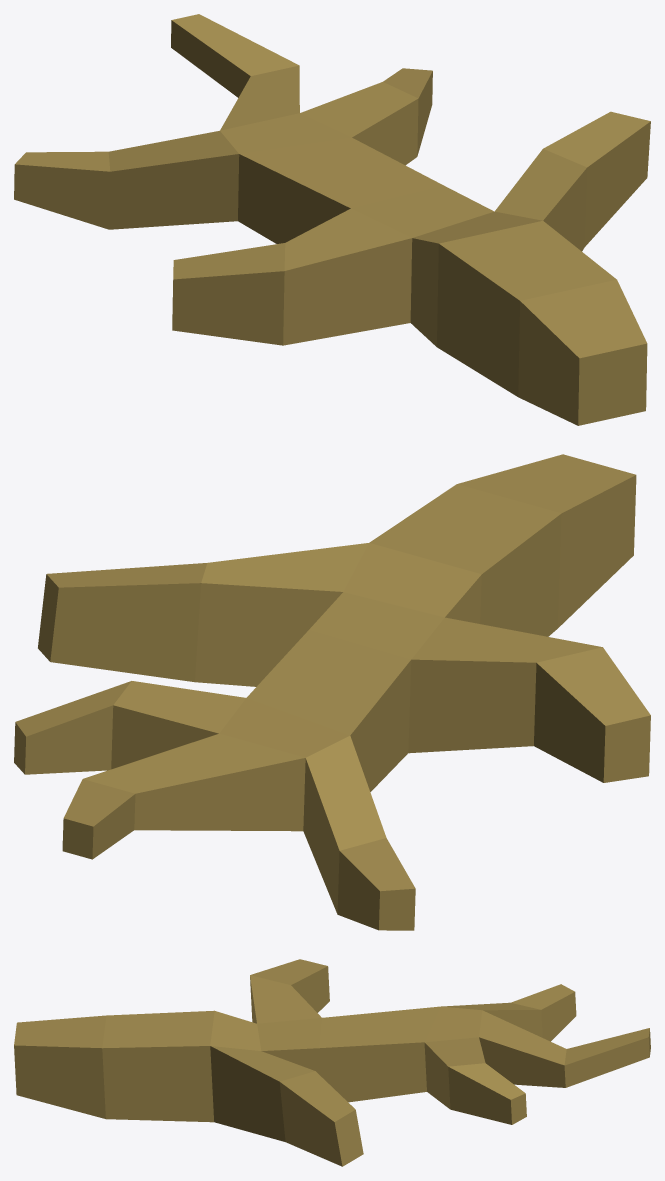
Rendered from plant_root.gltf.
The picture shows the model from 3 angles, top to bottom: view 1: azimuth 30°, elevation 25°; view 2: azimuth 150°, elevation 25°; view 3: azimuth 270°, elevation 25°; orthographic projection. The views are drawn at different scales.
Visible parts, largest first — view 1: Plant_Root; view 2: Plant_Root; view 3: Plant_Root.
Boxes of the visible parts, x1,y1,x2,y2 form: Plant_Root: (14, 14, 650, 425); Plant_Root: (14, 454, 650, 930); Plant_Root: (14, 959, 650, 1166).
Size of the model in its own units: 0.179 by 0.037 by 0.2726.
1 material, 1 textured.
